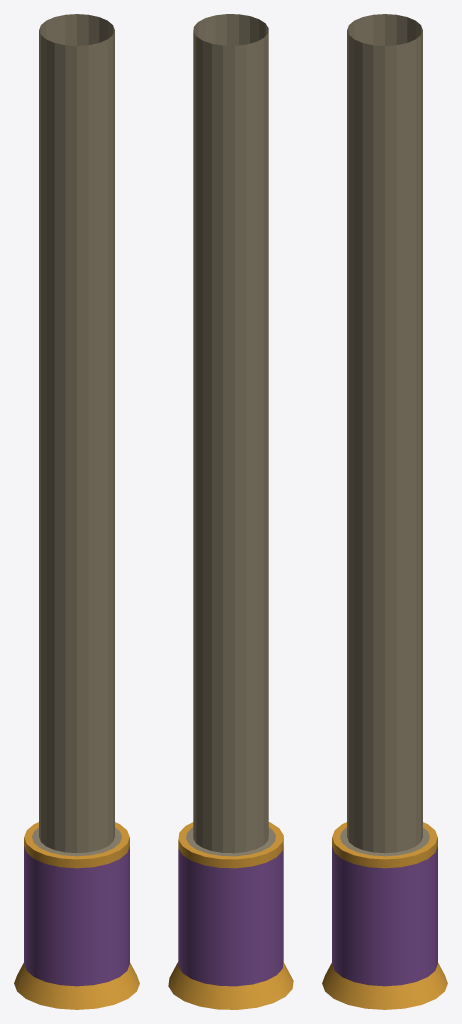
Rendered from Pillar.fbx.
The picture shows the model from 3 angles, left to right: view 1: azimuth 90°, elevation 25°; view 2: azimuth 150°, elevation 25°; view 3: azimuth 270°, elevation 25°; orthographic projection.
Parts seen in each view (by area): view 1: Pillar, PurpleCore, GoldTrim; view 2: Pillar, PurpleCore, GoldTrim; view 3: Pillar, PurpleCore, GoldTrim.
Boxes of the visible parts, x1=… form: Pillar: x1=32, y1=14, x2=121, y2=856; PurpleCore: x1=24, y1=846, x2=129, y2=986; GoldTrim: x1=14, y1=822, x2=139, y2=1009; Pillar: x1=186, y1=14, x2=275, y2=856; PurpleCore: x1=178, y1=844, x2=283, y2=986; GoldTrim: x1=168, y1=822, x2=293, y2=1009; Pillar: x1=340, y1=14, x2=429, y2=856; PurpleCore: x1=332, y1=846, x2=437, y2=986; GoldTrim: x1=322, y1=822, x2=447, y2=1009.
Size of the model in its own units: 11.91 by 99.51 by 11.91.
